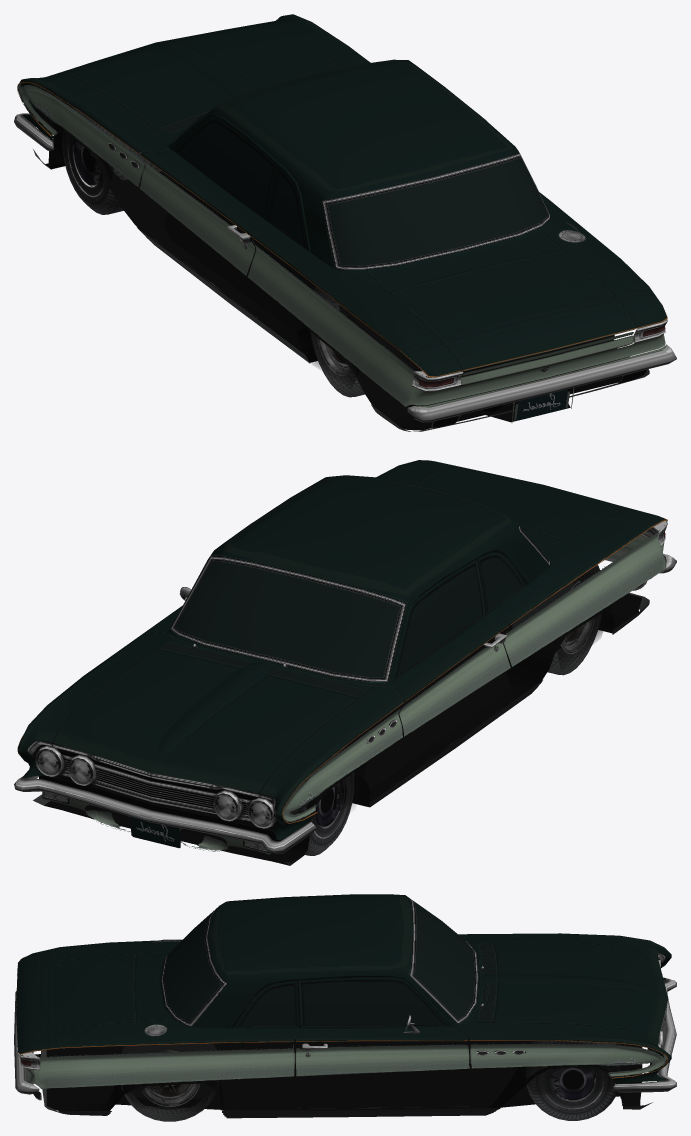
Rendered from GT4_BUIC0002.glb.
3 renders of one model, top to bottom at view 1: azimuth 30°, elevation 25°; view 2: azimuth 150°, elevation 25°; view 3: azimuth 270°, elevation 25°, orthographic. The views are drawn at different scales.
Visible parts, largest first — view 1: body, tire_rear_right, tire_front_right; view 2: body, tire_front_right, tire_rear_right; view 3: body, tire_rear_left, tire_front_left, wheel_front_left.
Part boxes in pixels (<box>): body: <box>14,14,676,431</box>; tire_rear_right: <box>62,107,161,214</box>; tire_front_right: <box>310,286,400,397</box>; body: <box>14,460,676,865</box>; tire_front_right: <box>512,565,601,675</box>; tire_rear_right: <box>252,748,354,855</box>; body: <box>14,894,676,1118</box>; tire_rear_left: <box>526,1041,620,1120</box>; tire_front_left: <box>121,1043,218,1121</box>; wheel_front_left: <box>141,1050,199,1106</box>.
Size of the model in its own units: 1.8 by 1.19 by 4.72.
41 materials, 41 textured.
